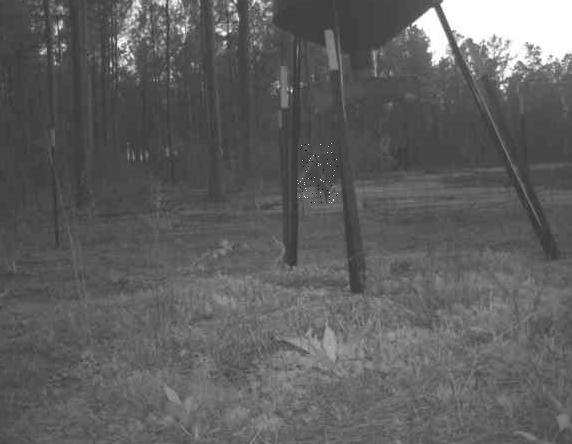Deer: (298, 143, 339, 203)
